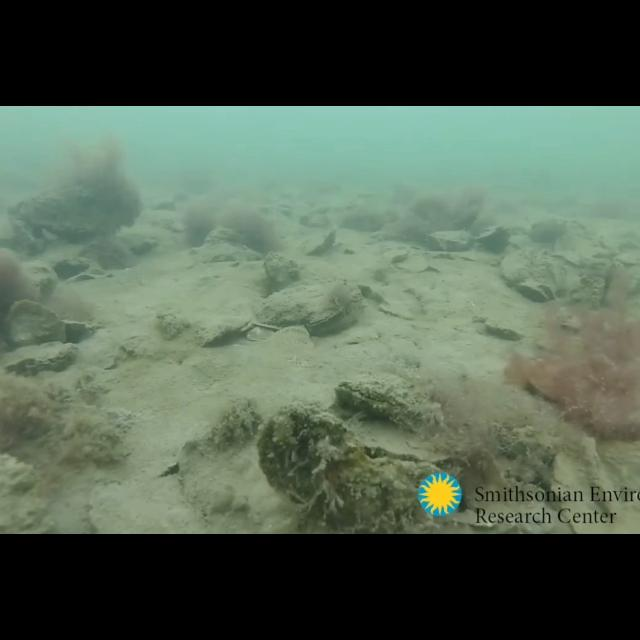Oyster-Closed: (258, 401, 447, 535), (336, 372, 446, 432), (344, 410, 458, 464), (251, 276, 365, 330), (4, 298, 68, 350), (0, 341, 81, 377), (196, 310, 254, 346), (262, 250, 302, 296), (17, 261, 59, 301), (500, 245, 534, 285), (532, 246, 562, 290), (426, 230, 472, 253), (304, 228, 338, 258), (52, 256, 90, 282), (518, 280, 554, 304), (478, 225, 506, 249)
